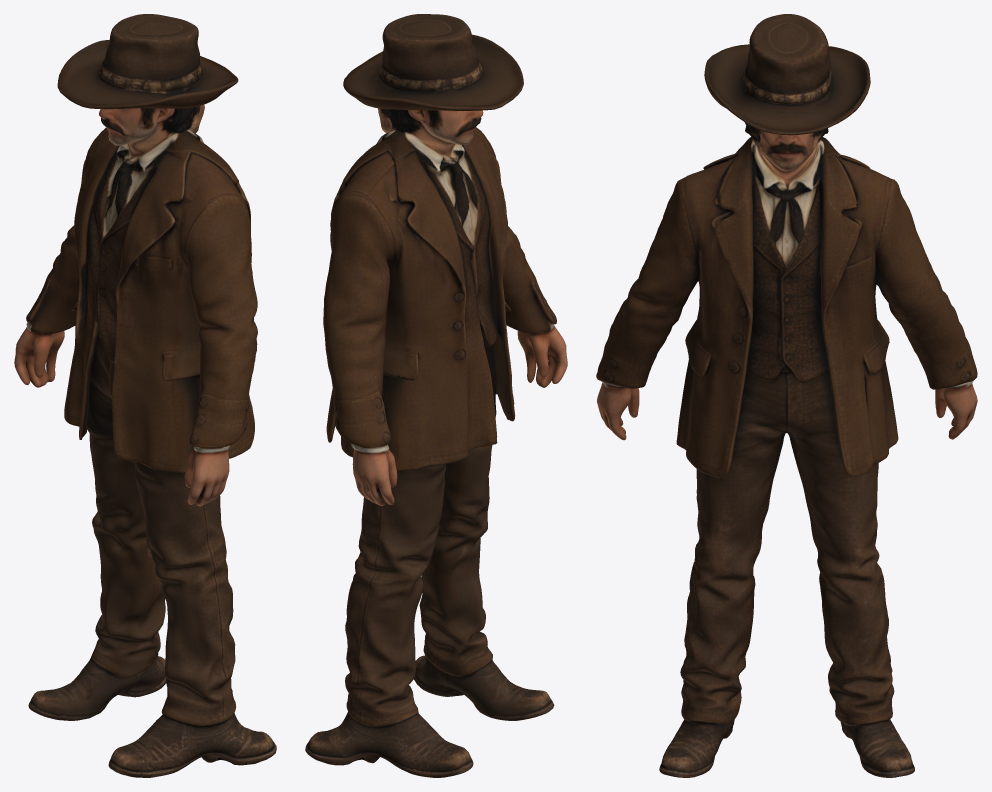
Rendered from stranger2_h31_mesh.fbx.
The picture shows the model from 3 angles, left to right: view 1: azimuth 30°, elevation 25°; view 2: azimuth 150°, elevation 25°; view 3: azimuth 270°, elevation 25°; orthographic projection.
Parts seen in each view (by area): view 1: tripo_node_0c1ada65; view 2: tripo_node_0c1ada65; view 3: tripo_node_0c1ada65.
Part boxes in pixels (x1=…): tripo_node_0c1ada65: x1=14, y1=14, x2=276, y2=777; tripo_node_0c1ada65: x1=305, y1=14, x2=567, y2=777; tripo_node_0c1ada65: x1=596, y1=14, x2=977, y2=777.
Bounding box in the file's own units: 23.12 × 97.81 × 47.01.
1 material, 1 textured.
